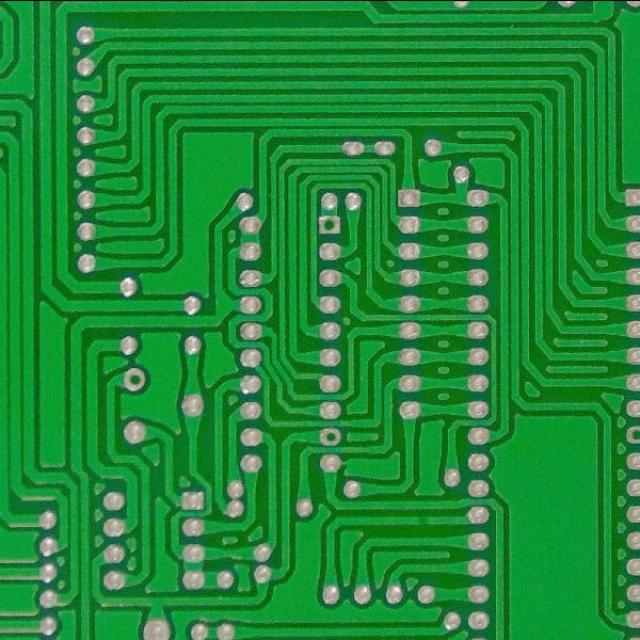Missing_Hole: (120, 364, 150, 394), (318, 212, 342, 236), (318, 427, 342, 448), (625, 422, 640, 446)
